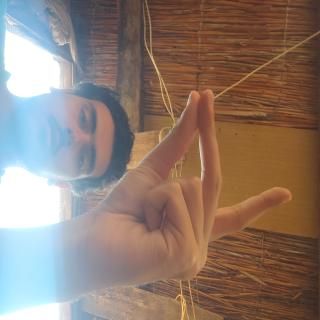TAA: (62, 28, 227, 314)
